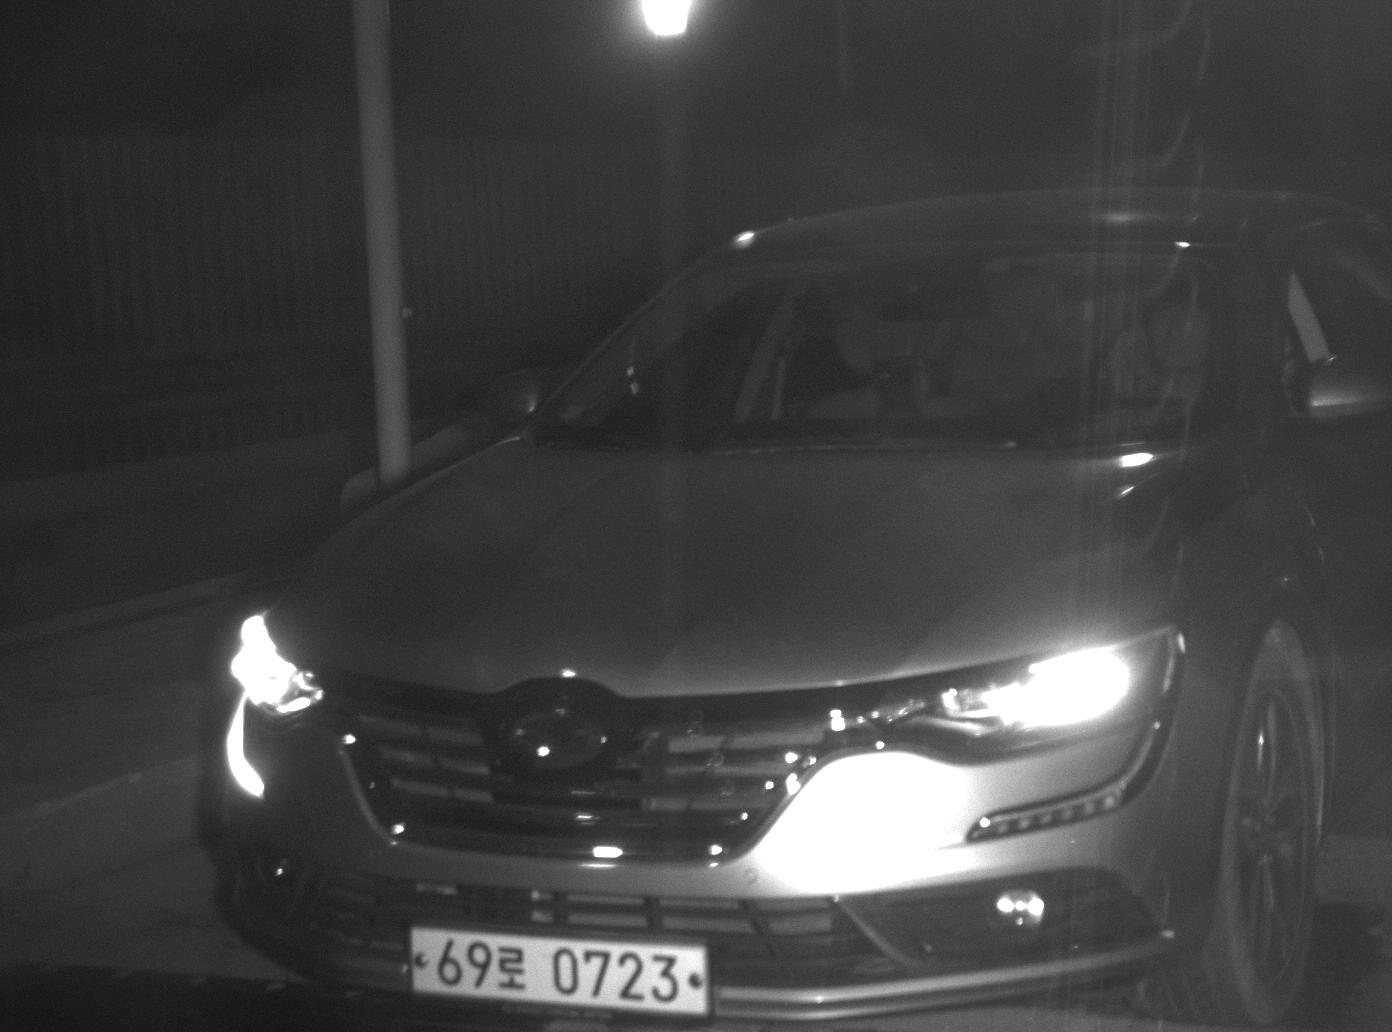car: (206, 180, 1392, 1032)
plate: (402, 919, 718, 1025)
